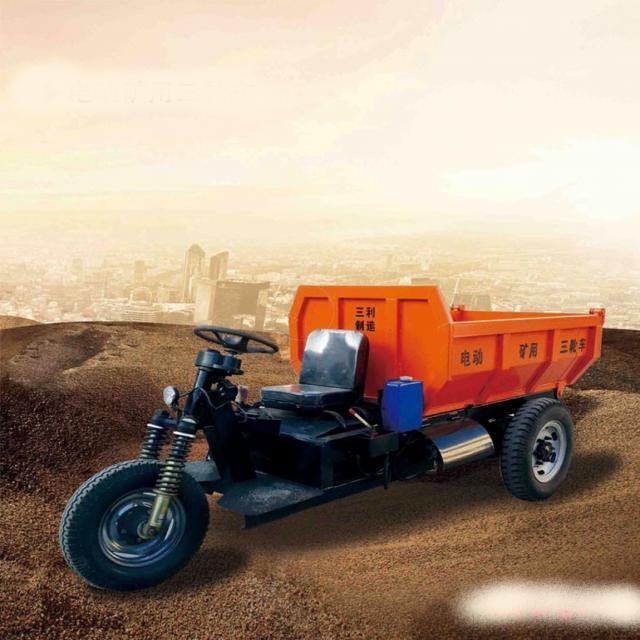tricycle: (59, 280, 608, 588)
